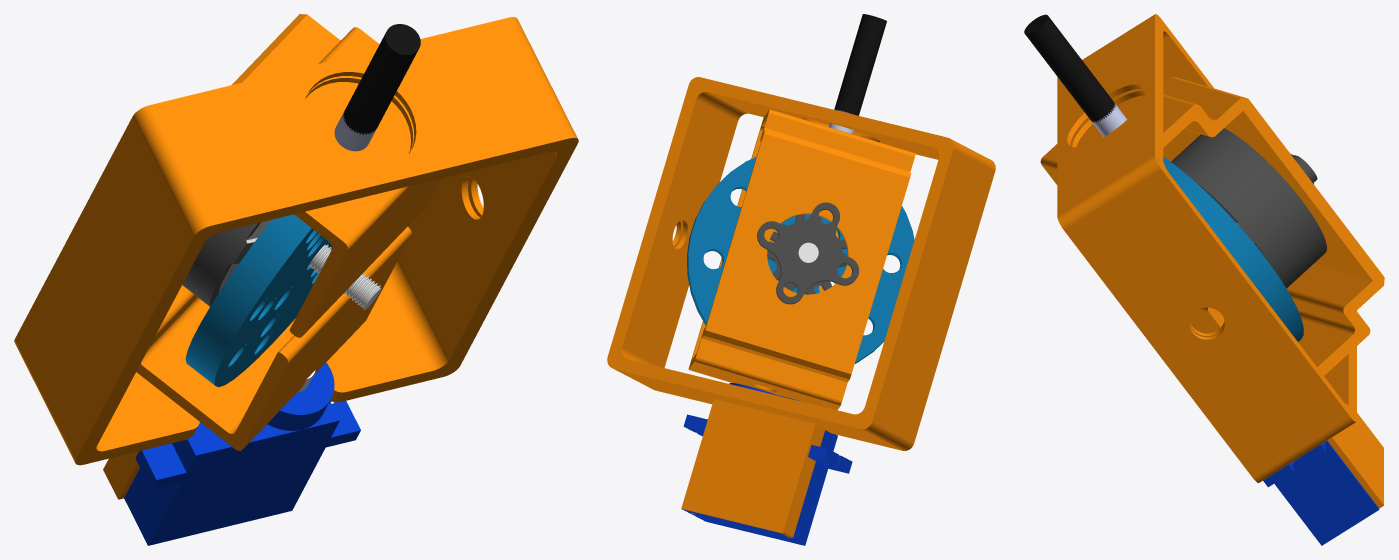
Rendered from 3D模型网格.obj.
3 views of the same model, side by side, from view 1: azimuth 30°, elevation 25°; view 2: azimuth 150°, elevation 25°; view 3: azimuth 270°, elevation 25° (orthographic). The views are drawn at different scales.
Visible parts, largest first — view 1: Fillet5, Cut-Extrude2, Saliente-Extruir4, Boss-Extrude1, T-Motor F80Pro.step<1>[1], T-Motor F80Pro.step<1>[2]; view 2: Fillet5, Cut-Extrude2, T-Motor F80Pro.step<1>[3], Saliente-Extruir4, Boss-Extrude1, T-Motor F80Pro.step<1>[1]; view 3: Fillet5, Cut-Extrude2, T-Motor F80Pro.step<1>[1], Saliente-Extruir4, Boss-Extrude1.
Boxes of the visible parts, box(x1,y1,x2,y2) form: Fillet5: box(14, 17, 578, 499); Cut-Extrude2: box(136, 14, 440, 450); Saliente-Extruir4: box(124, 362, 360, 545); Boss-Extrude1: box(334, 24, 420, 151); T-Motor F80Pro.step<1>[1]: box(182, 220, 270, 306); T-Motor F80Pro.step<1>[2]: box(308, 244, 381, 309); Fillet5: box(607, 77, 995, 537); Cut-Extrude2: box(687, 109, 915, 410); T-Motor F80Pro.step<1>[3]: box(757, 202, 859, 304); Saliente-Extruir4: box(681, 383, 852, 545); Boss-Extrude1: box(829, 14, 886, 134); T-Motor F80Pro.step<1>[1]: box(767, 214, 847, 294); Fillet5: box(1057, 14, 1383, 508); Cut-Extrude2: box(1040, 77, 1384, 375); T-Motor F80Pro.step<1>[1]: box(1171, 128, 1326, 288); Saliente-Extruir4: box(1263, 440, 1379, 545); Boss-Extrude1: box(1024, 14, 1126, 136).
Size of the model in its own units: 60 by 93.57 by 60.83.
